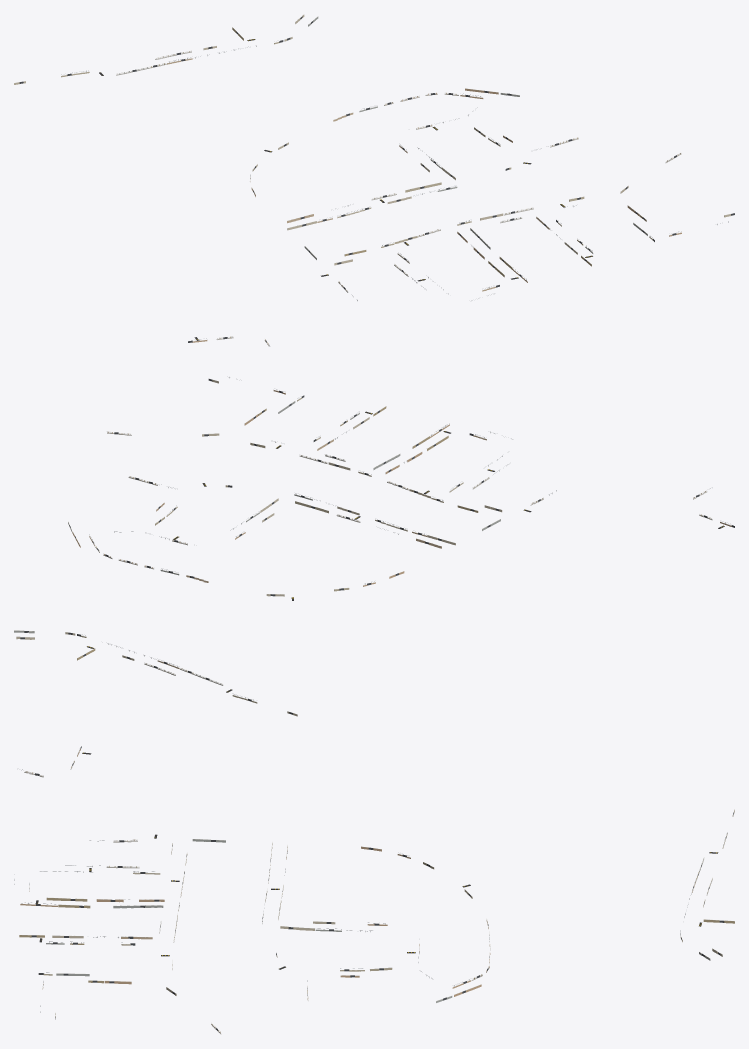
The picture shows the model from 3 angles, top to bottom: view 1: azimuth 30°, elevation 25°; view 2: azimuth 150°, elevation 25°; view 3: azimuth 270°, elevation 25°; orthographic projection. The views are drawn at different scales.
Visible parts, largest first — view 1: nd_st_m15_m13_lod0; view 2: nd_st_m15_m13_lod0; view 3: nd_st_m15_m13_lod0.
Part boxes in pixels (bbox=[...]): nd_st_m15_m13_lod0: bbox=[14, 14, 734, 346]; nd_st_m15_m13_lod0: bbox=[14, 377, 734, 716]; nd_st_m15_m13_lod0: bbox=[14, 746, 734, 1034].
Size of what is drawn, in the model's own units: 478 by 11.18 by 498.
